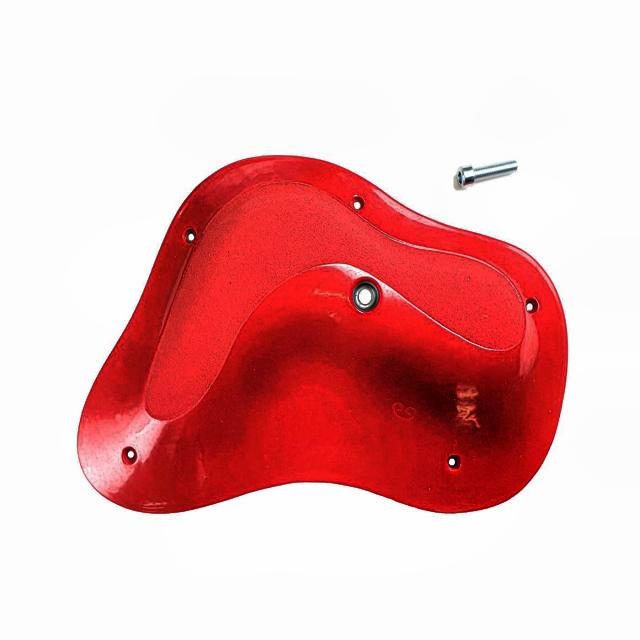Hold: (75, 155, 570, 520)
